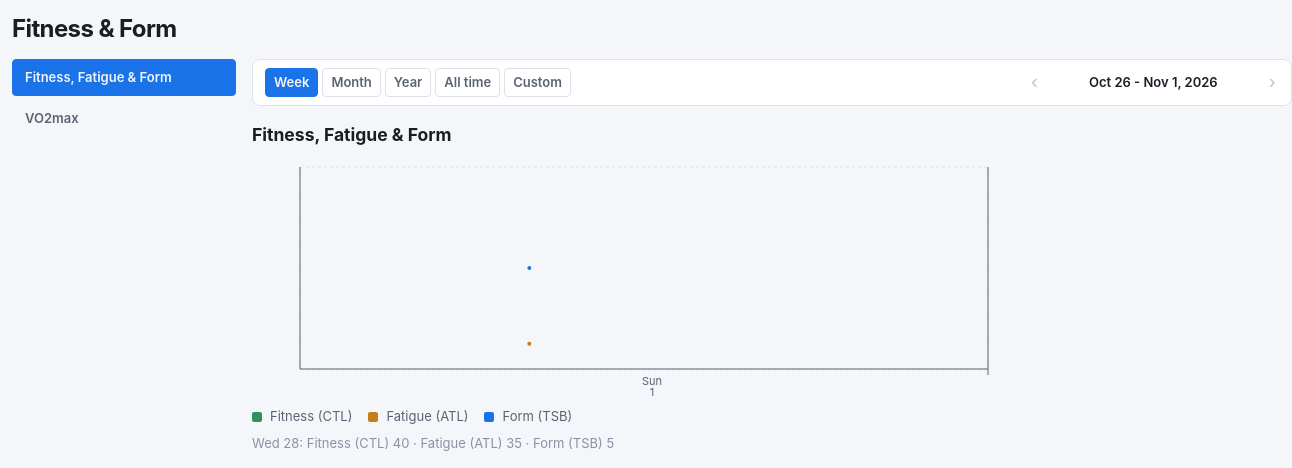
Test: FitnessPage › selects the first available metric by default and switches on click
This screenshot has width=1292, height=468.
Expected: the heading "Fitness, Fatigue & Form" is shown, 252,124 -> 452,145
Click the button "VO2max" at (124, 118), box 12,100 -> 236,136
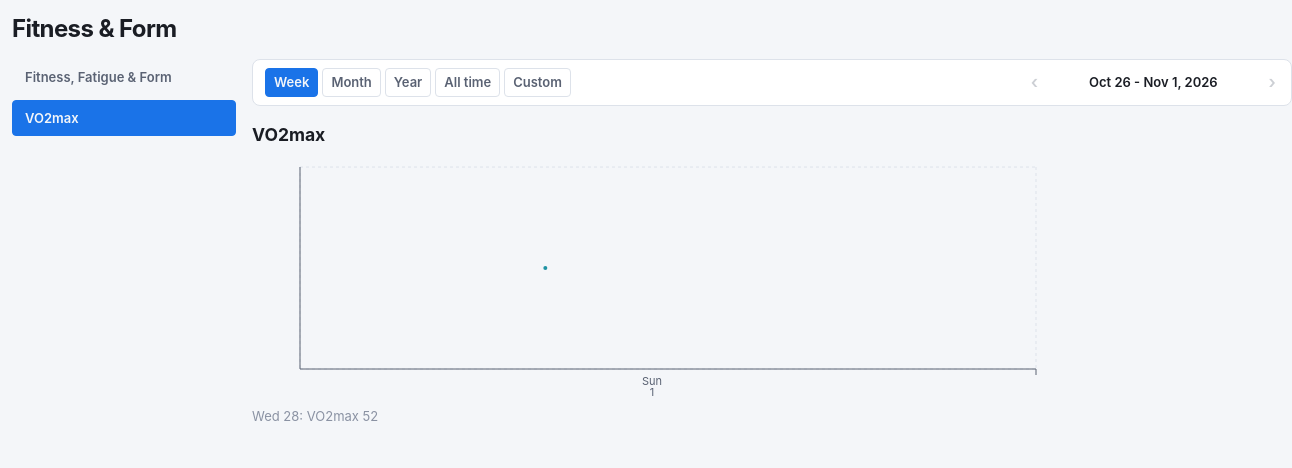
Expected: the heading "VO2max" is shown, 252,124 -> 325,145
